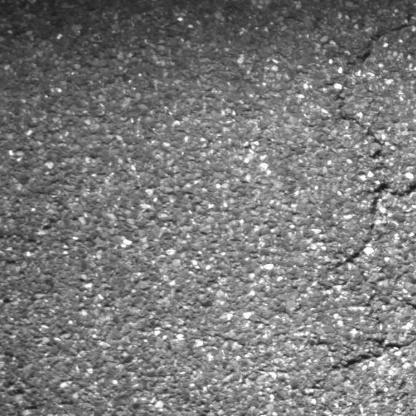Cracks: (333, 180, 416, 276), (328, 293, 416, 374), (331, 78, 389, 169), (351, 18, 416, 73)
